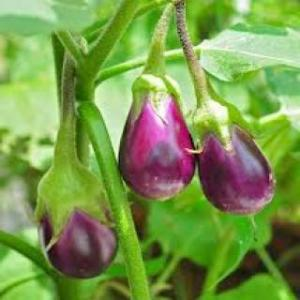eggplant: (189, 99, 277, 215), (120, 72, 194, 200), (38, 160, 116, 278)
